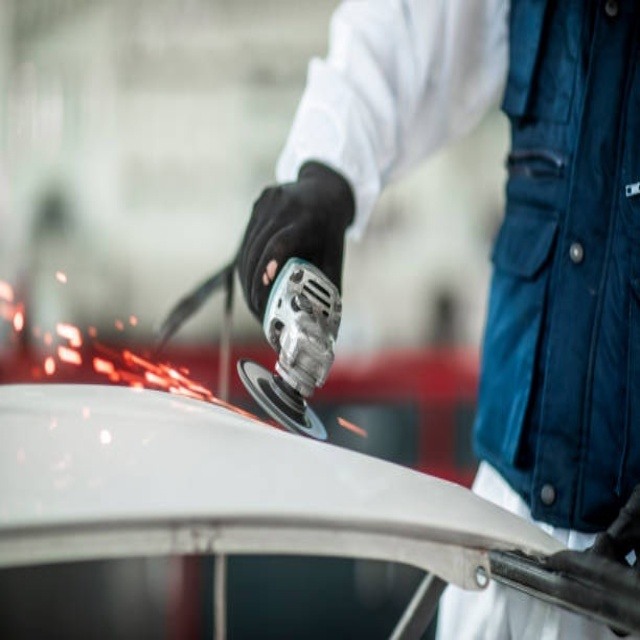Guantes: (232, 158, 359, 351)
